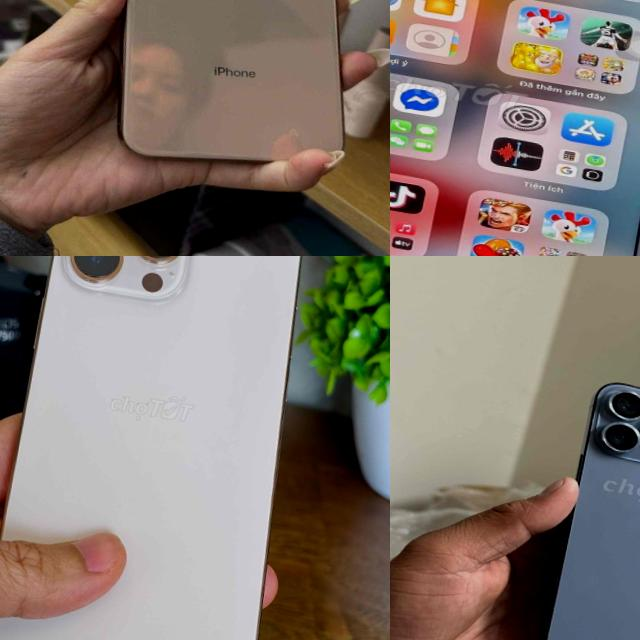gen_12_13: (527, 373, 640, 640)
gen_16: (0, 256, 301, 640)
gen_7_8: (390, 0, 640, 256)
gen_x_xs: (77, 0, 390, 191)
